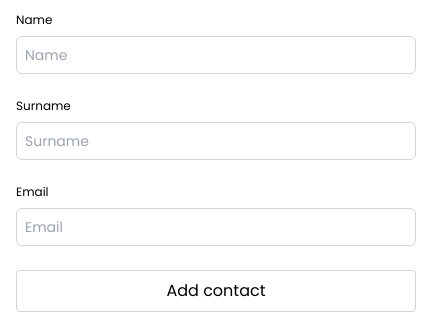
Test case: Form › should display validation error when name is not provided
The image size is (433, 329).
In the field with placeholder "Email": (216, 227) [16,208,416,246], type "test@example.com"
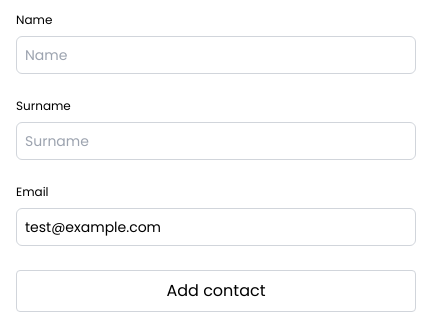
Click the button "Add contact": (216, 291) [16,270,416,312]
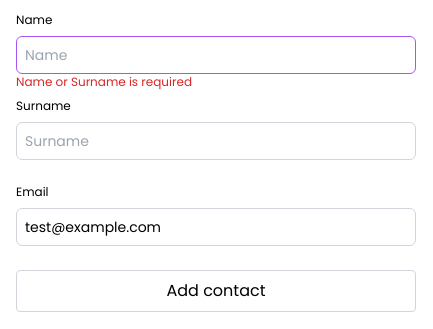
Check: the text "Name or Surname is required" is shown, box [16,73,192,90]
